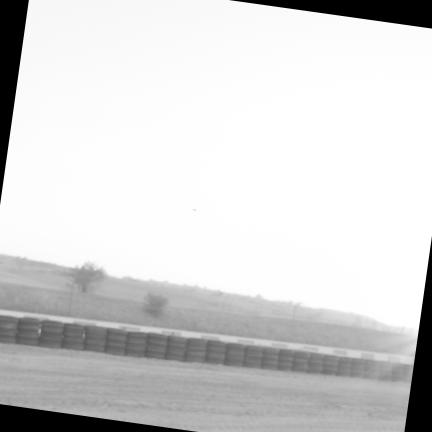Shahed: (190, 208, 200, 211)
